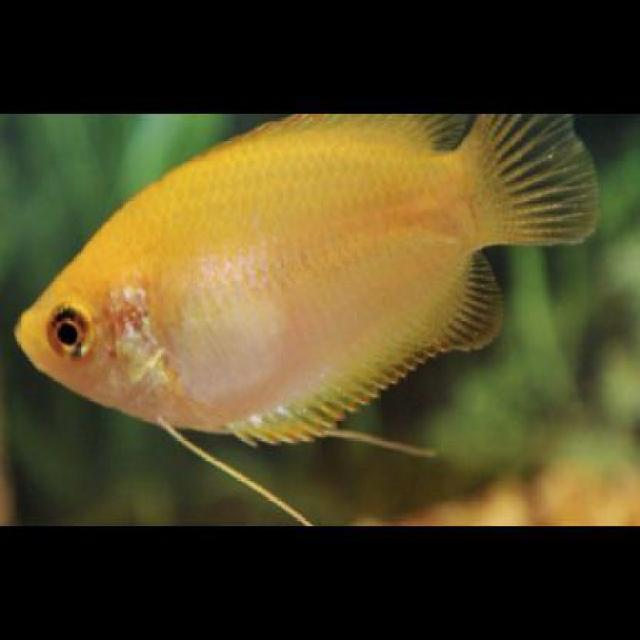Gourami: (15, 112, 600, 454)
